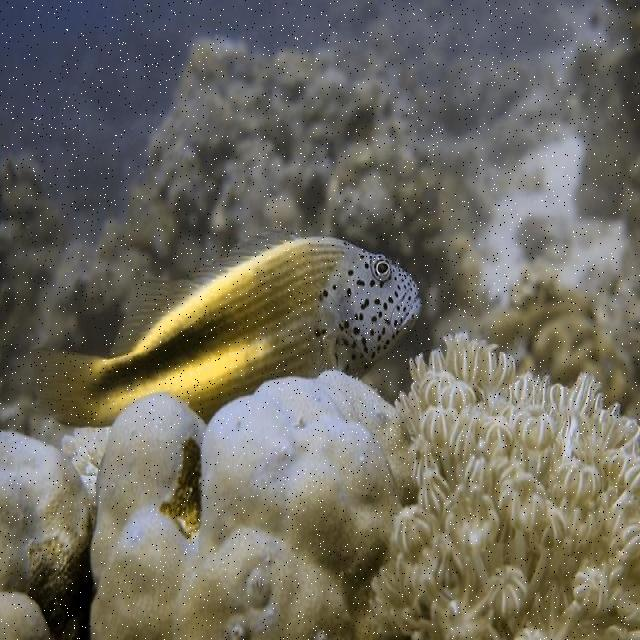fish: (29, 230, 423, 431)
reefs: (0, 369, 417, 639), (369, 329, 639, 639)
